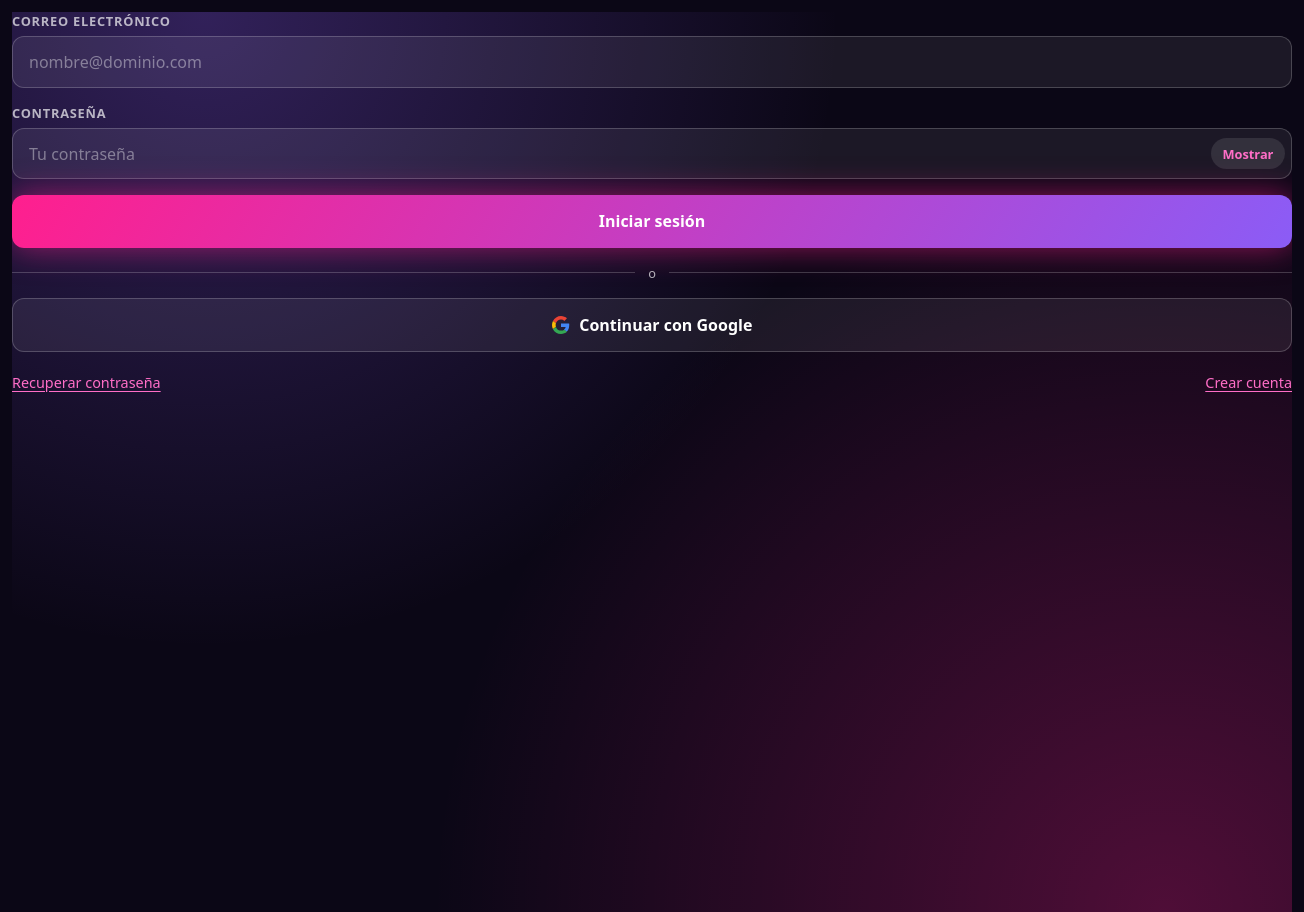
Test: <LoginForm /> › muestra errores accesibles y enfoca el primer campo inválido
The image size is (1304, 912).
Step 1. Click the button "Iniciar sesión" → (652, 221), box [12,195,1292,248]
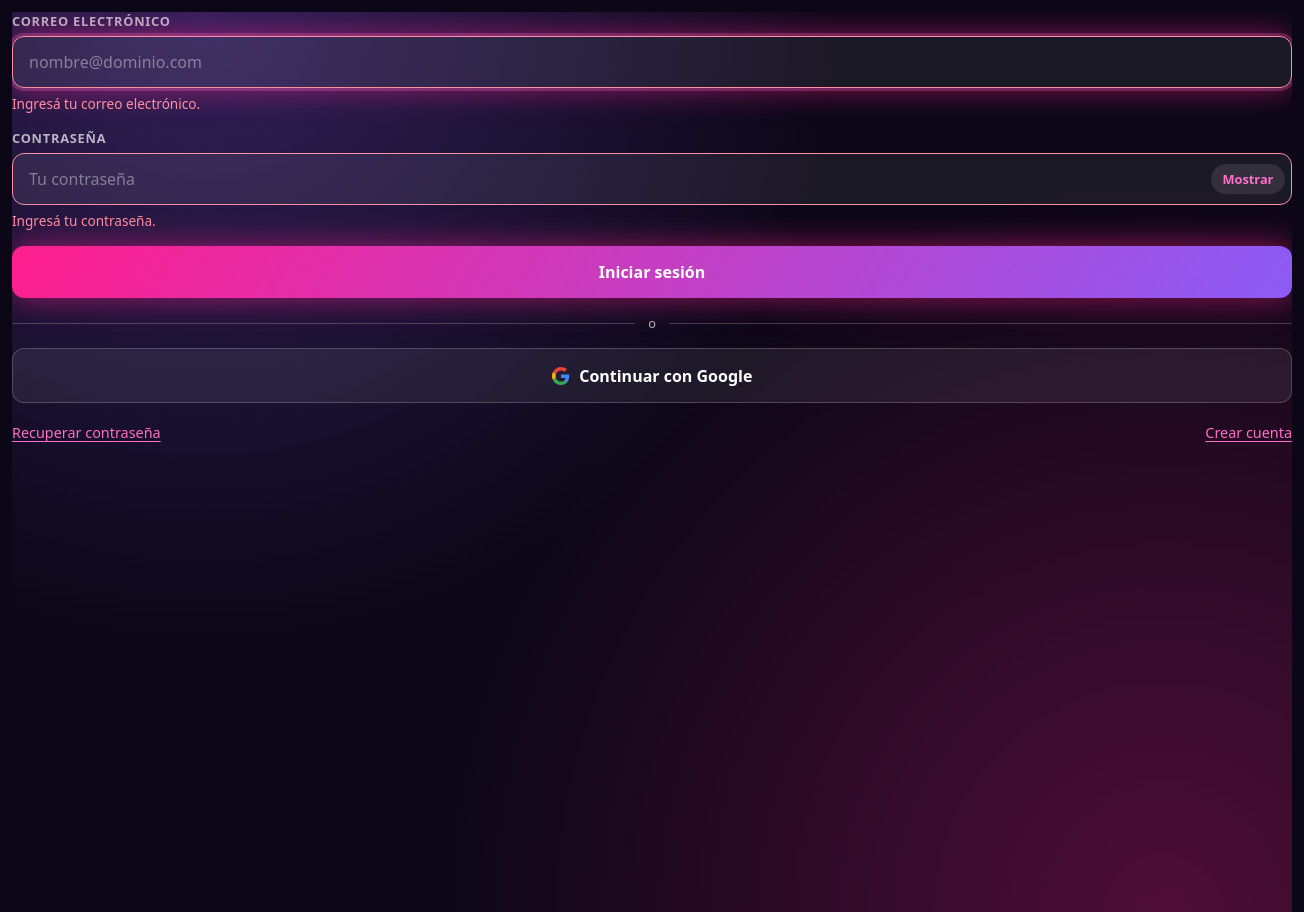
Result: the number of messages is 2 at [12,94,200,113]; [12,211,156,230]
